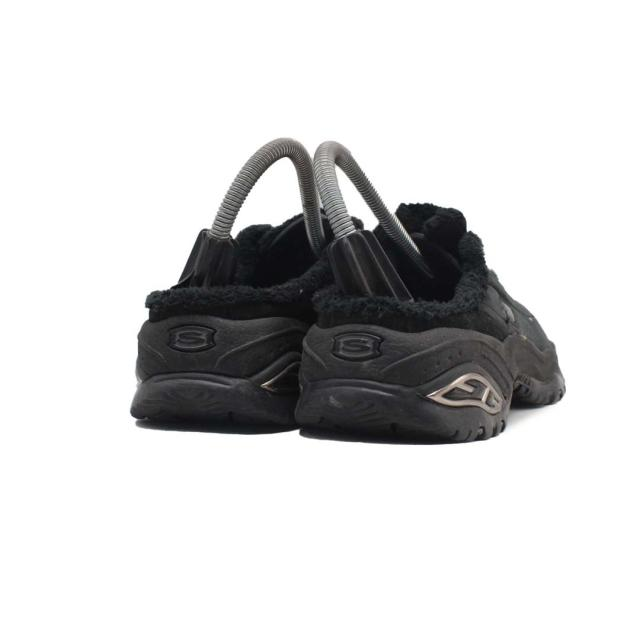heel: (146, 231, 335, 317), (314, 246, 487, 333)
midsole: (297, 327, 566, 441), (133, 313, 308, 427)
